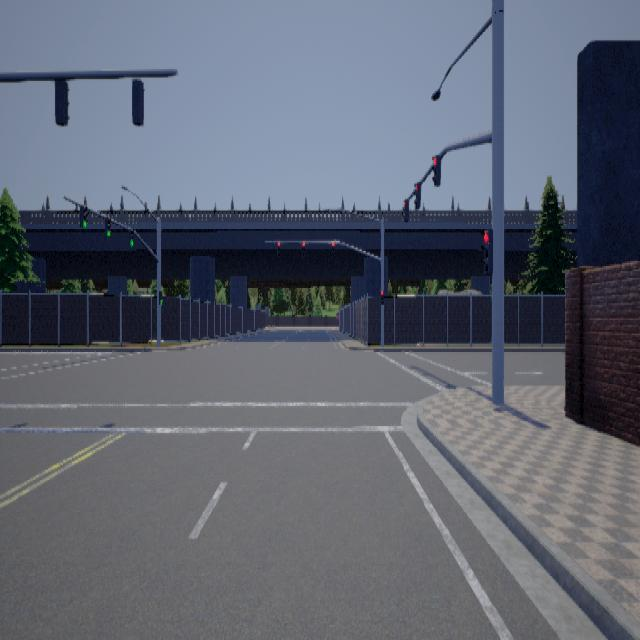green_light: (80, 205, 88, 227), (104, 216, 110, 236), (128, 228, 134, 246), (158, 291, 162, 305)
red_light: (480, 227, 492, 273), (431, 154, 440, 186), (413, 180, 420, 207), (401, 197, 408, 221), (302, 241, 305, 256), (277, 241, 280, 256), (381, 290, 384, 303), (332, 241, 334, 256)
